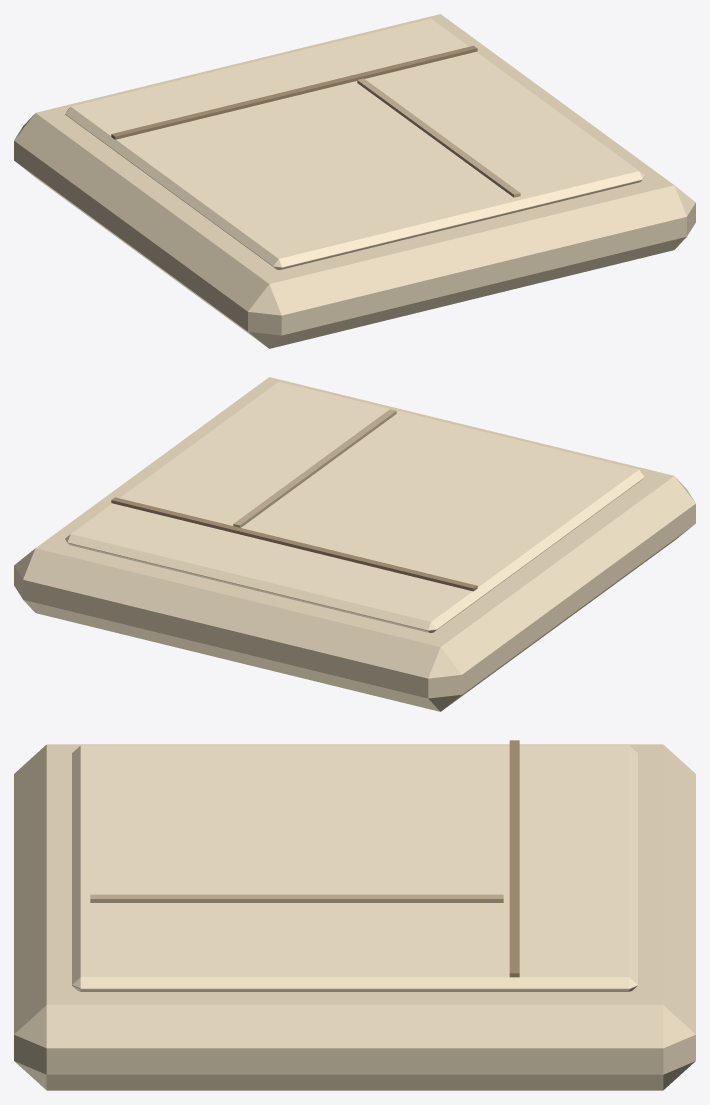
The model's file is Environment_PathTile.fbx.
3 renders of one model, top to bottom at view 1: azimuth 30°, elevation 25°; view 2: azimuth 150°, elevation 25°; view 3: azimuth 270°, elevation 25°, orthographic. The views are drawn at different scales.
Parts seen in each view (by area): view 1: Environment_PathTile; view 2: Environment_PathTile; view 3: Environment_PathTile.
Boxes of the visible parts, box(x1,y1,x2,y2) form: Environment_PathTile: box(14, 14, 695, 348); Environment_PathTile: box(14, 377, 695, 711); Environment_PathTile: box(14, 740, 695, 1090).
Bounding box in the file's own units: 0.94 × 0.157 × 0.94.
